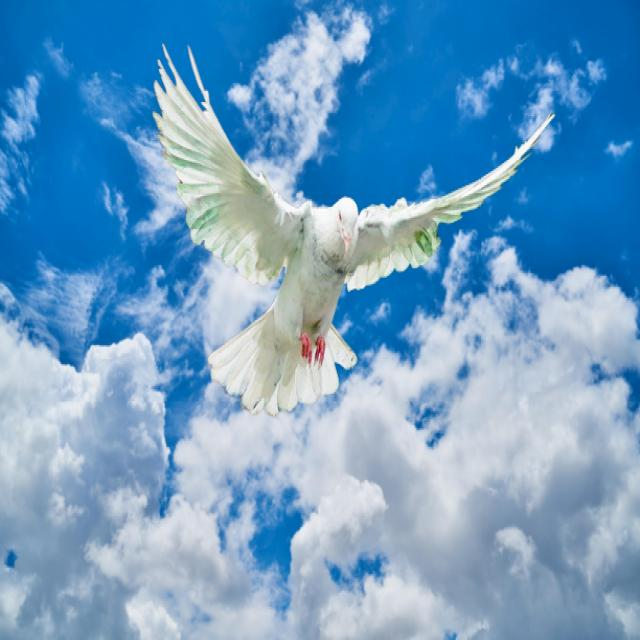birds: (147, 31, 559, 430)
